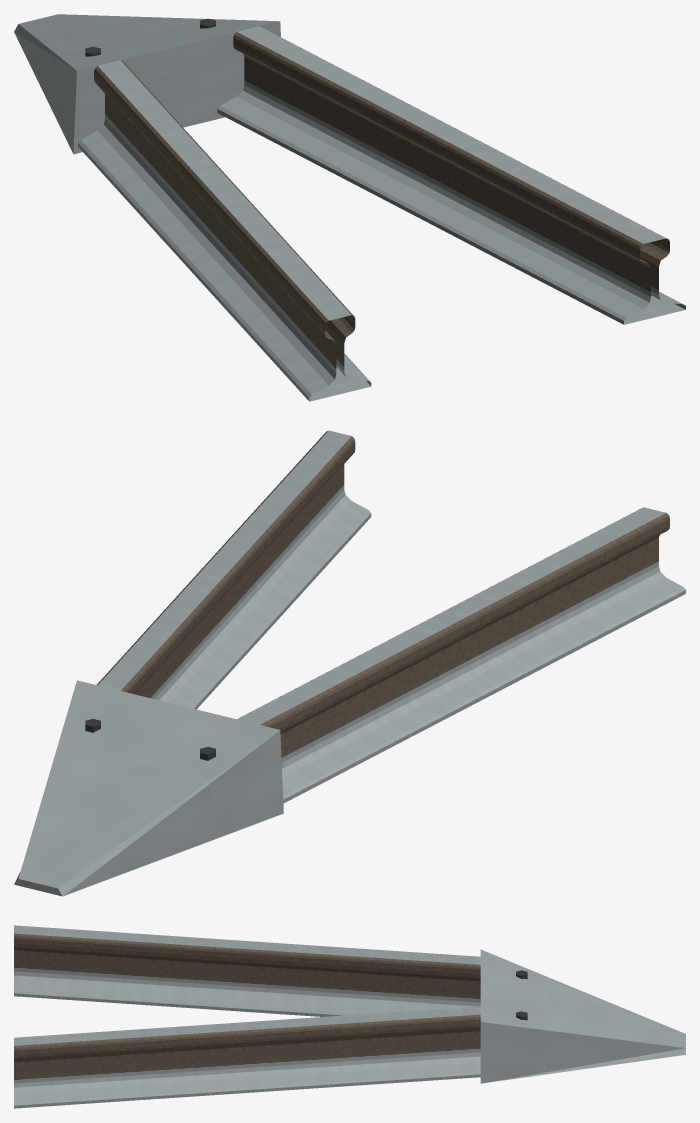
The model's file is center_guard_endpoint.obj.
3 views of the same model, one above another, from view 1: azimuth 30°, elevation 25°; view 2: azimuth 150°, elevation 25°; view 3: azimuth 270°, elevation 25° (orthographic). The views are drawn at different scales.
Parts seen in each view (by area): view 1: terminal_right, terminal_left, terminal_nose; view 2: terminal_left, terminal_nose, terminal_right; view 3: terminal_right, terminal_left, terminal_nose.
Boxes of the visible parts, <box> form: terminal_right: <box>217,26,685,324</box>; terminal_left: <box>78,60,371,401</box>; terminal_nose: <box>14,14,280,154</box>; terminal_left: <box>237,507,685,803</box>; terminal_nose: <box>14,680,283,896</box>; terminal_right: <box>97,430,371,709</box>; terminal_right: <box>14,1006,480,1108</box>; terminal_left: <box>14,925,480,1016</box>; terminal_nose: <box>480,949,685,1083</box>.
Size of the model in its own units: 0.852 by 0.1789 by 1.8.
